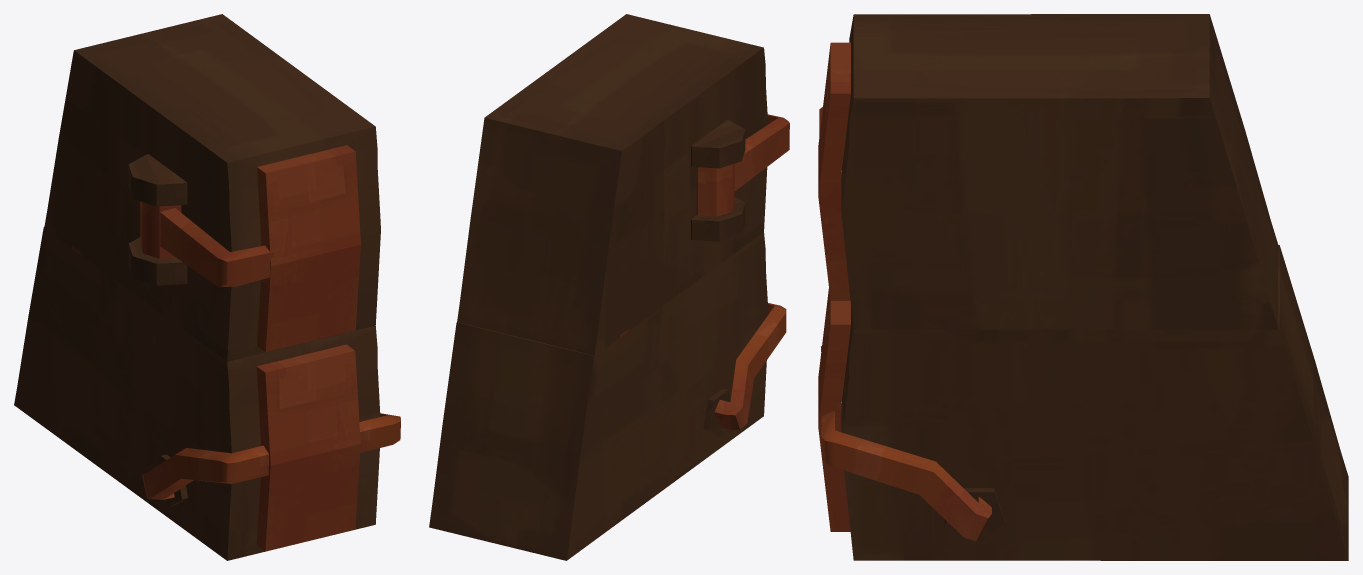
The model's file is inkHouseSmall.fbx.
The picture shows the model from 3 angles, left to right: view 1: azimuth 30°, elevation 25°; view 2: azimuth 150°, elevation 25°; view 3: azimuth 270°, elevation 25°; orthographic projection. The views are drawn at different scales.
Visible parts, largest first — view 1: inkHouse02_topPart, inkHouse02_botmPart, inkHouse02_Lid01, inkHouse02_lid02; view 2: inkHouse02_topPart, inkHouse02_botmPart, inkHouse02_Lid01, inkHouse02_lid02; view 3: inkHouse02_topPart, inkHouse02_botmPart, inkHouse02_lid02, inkHouse02_Lid01.
Part boxes in pixels (box(x1,y1,x2,y2)): inkHouse02_topPart: box(44, 14, 380, 361); inkHouse02_botmPart: box(14, 227, 380, 560); inkHouse02_Lid01: box(128, 145, 360, 351); inkHouse02_lid02: box(142, 344, 400, 551); inkHouse02_topPart: box(457, 14, 768, 355); inkHouse02_botmPart: box(429, 232, 768, 560); inkHouse02_Lid01: box(691, 114, 789, 241); inkHouse02_lid02: box(703, 303, 786, 437); inkHouse02_topPart: box(841, 14, 1278, 329); inkHouse02_botmPart: box(841, 245, 1348, 560); inkHouse02_lid02: box(818, 289, 1005, 544); inkHouse02_Lid01: box(818, 42, 850, 300).
Bounding box in the file's own units: 3.16 × 5.61 × 5.83.
